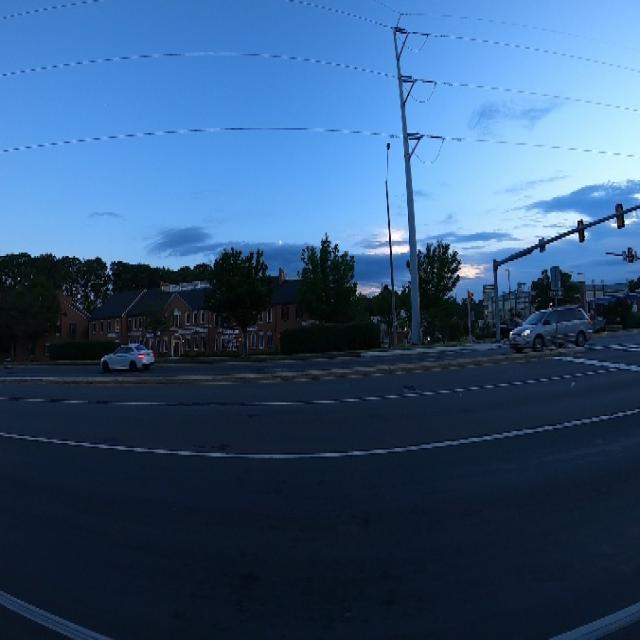car: (503, 291, 593, 352), (95, 323, 160, 379)
